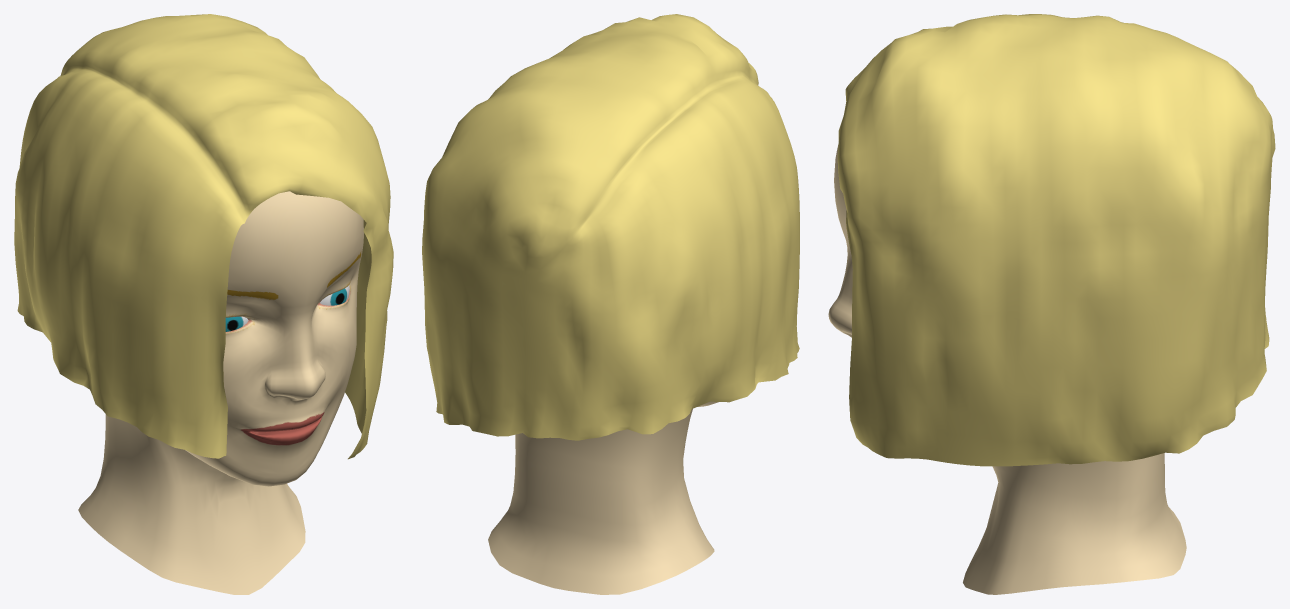
File: Female Final (1).FBX
3 renders of one model, left to right at view 1: azimuth 30°, elevation 25°; view 2: azimuth 150°, elevation 25°; view 3: azimuth 270°, elevation 25°, orthographic. The views are drawn at different scales.
Parts seen in each view (by area): view 1: Head003; view 2: Head003; view 3: Head003.
Boxes of the visible parts, x1,y1,x2,y2 form: Head003: [14, 14, 393, 594]; Head003: [422, 14, 799, 594]; Head003: [828, 14, 1275, 594].
Bounding box in the file's own units: 1.43 × 2.52 × 1.87.
Materials: 2 (2 with a texture image).
